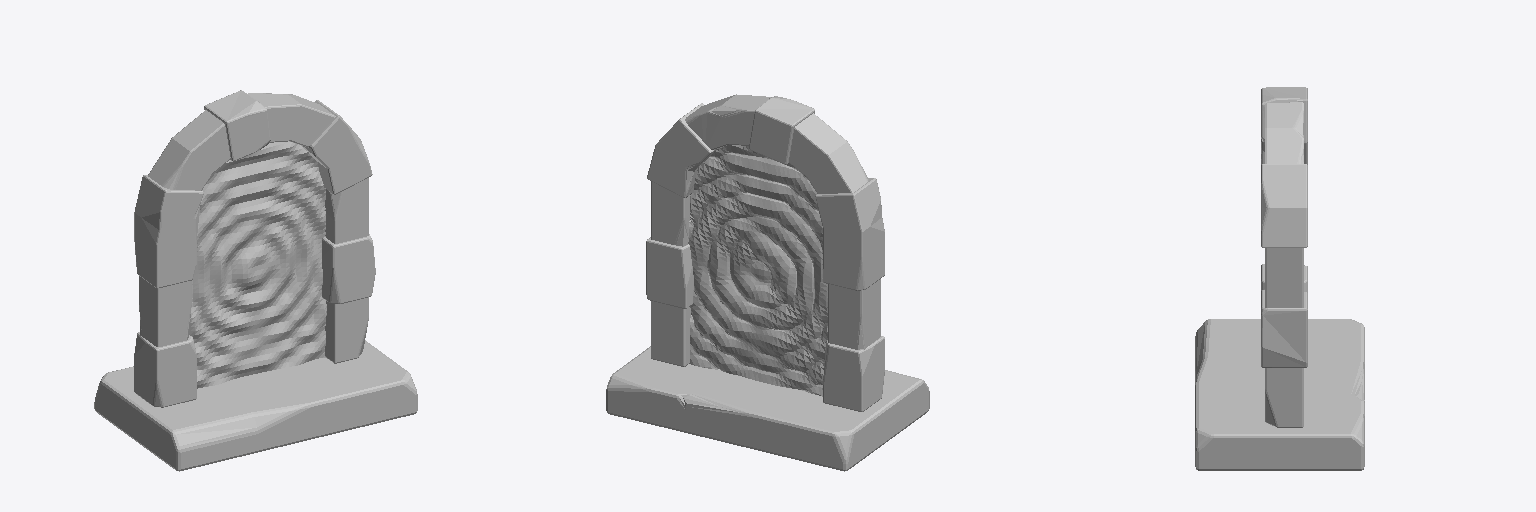
The model's file is portalMagico.obj.
3 renders of one model, left to right at view 1: azimuth 30°, elevation 25°; view 2: azimuth 150°, elevation 25°; view 3: azimuth 270°, elevation 25°, orthographic.
Parts seen in each view (by area): view 1: Plane.003, Plane, Plane.001, Plane.002; view 2: Plane.003, Plane, Plane.001, Plane.002; view 3: Plane, Plane.001, Plane.002.
Boxes of the visible parts, x1=… form: Plane.003: x1=189, y1=141, x2=326, y2=388; Plane: x1=94, y1=340, x2=417, y2=471; Plane.001: x1=134, y1=90, x2=375, y2=407; Plane.002: x1=139, y1=93, x2=368, y2=363; Plane.003: x1=688, y1=145, x2=827, y2=396; Plane: x1=606, y1=346, x2=929, y2=471; Plane.001: x1=646, y1=96, x2=884, y2=411; Plane.002: x1=651, y1=94, x2=880, y2=366; Plane: x1=1195, y1=319, x2=1364, y2=470; Plane.001: x1=1261, y1=87, x2=1307, y2=367; Plane.002: x1=1265, y1=102, x2=1303, y2=427.
Size of the model in its own units: 4.08 by 5.08 by 2.48.